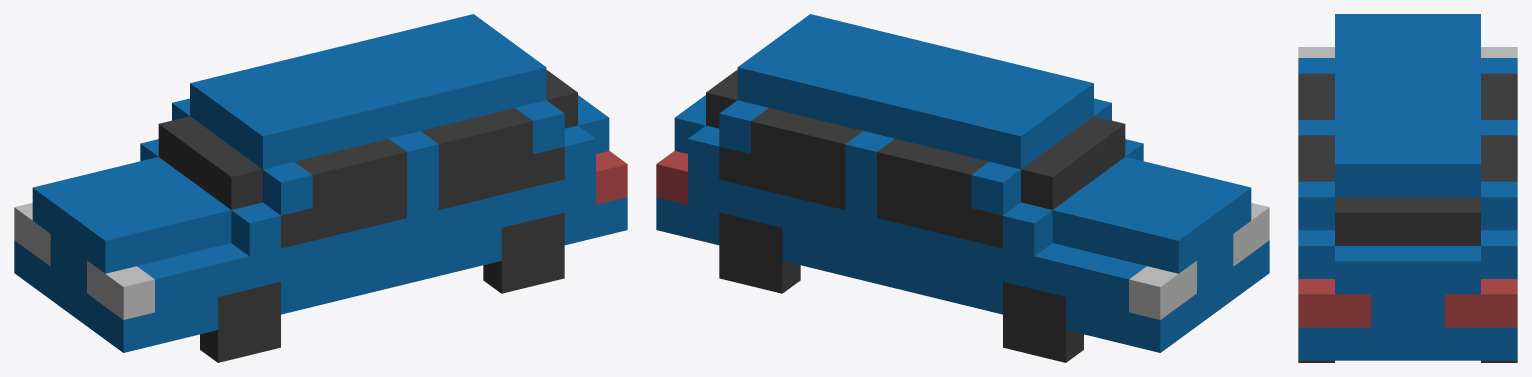
File: car-v3-blue.gltf
3 renders of one model, left to right at view 1: azimuth 30°, elevation 25°; view 2: azimuth 150°, elevation 25°; view 3: azimuth 270°, elevation 25°, orthographic.
Visible parts, largest first — view 1: model, wheels; view 2: model, wheels; view 3: model, wheels.
Boxes of the visible parts, box(x1,y1,x2,y2) form: model: box(14, 14, 627, 352); wheels: box(200, 212, 564, 362); model: box(656, 14, 1269, 352); wheels: box(719, 212, 1083, 362); model: box(1298, 14, 1517, 360); wheels: box(1298, 360, 1517, 362).
Bounding box in the file's own units: 1.6 × 0.6 × 0.6.
2 materials, 2 textured.
